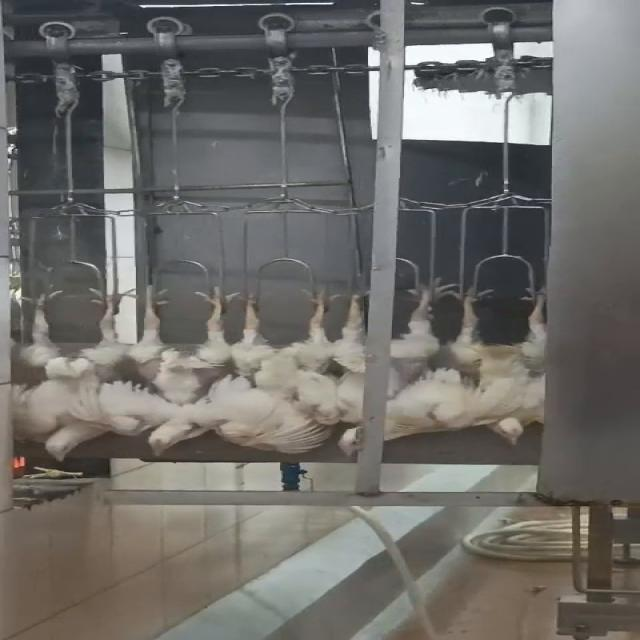chicken: (199, 279, 341, 458), (414, 280, 552, 450), (11, 276, 128, 465), (340, 274, 448, 452), (135, 276, 224, 456)
